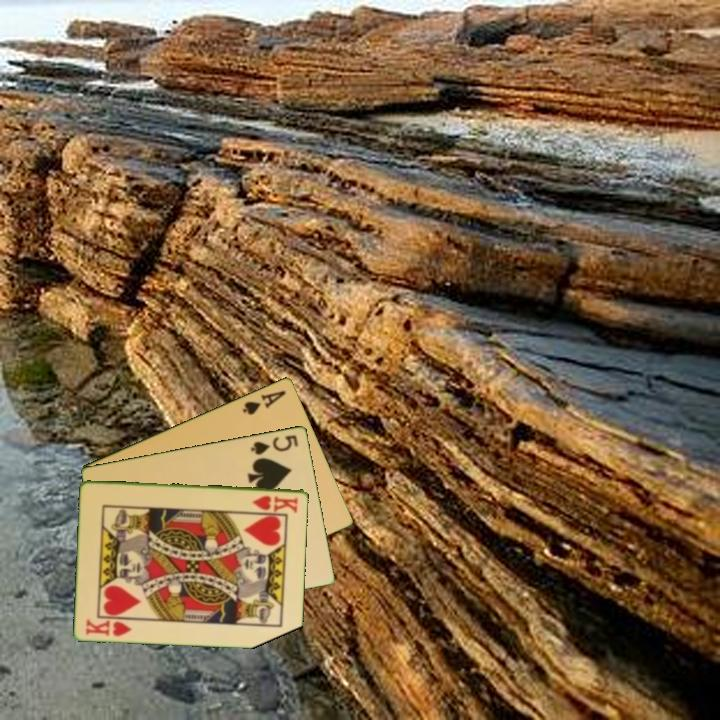5s: (247, 431, 301, 457)
As: (239, 386, 289, 418)
Kh: (82, 615, 135, 639), (249, 491, 301, 514)
